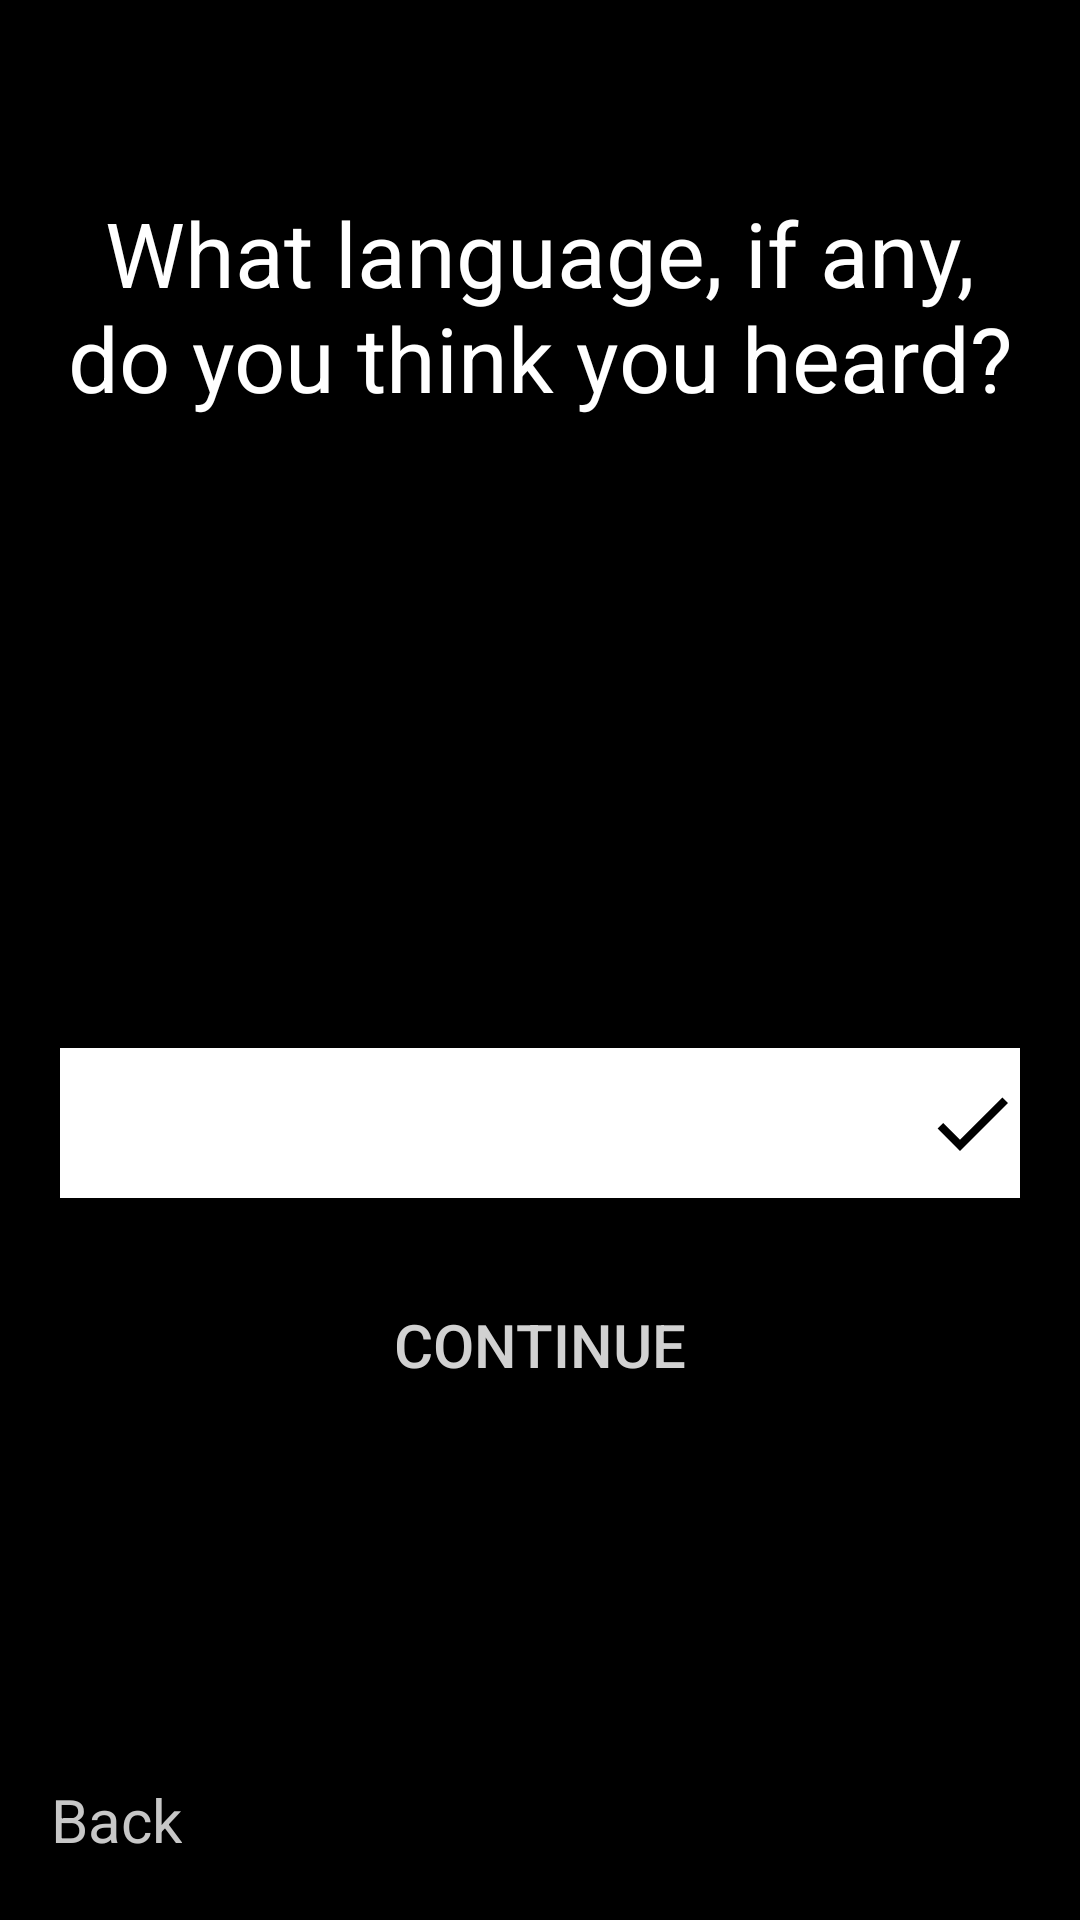

Named icons in this screenshot (1080×1920) and their bounding boxes, [x1,y1,x2,y2]:
done: [937,1097,1008,1151]
